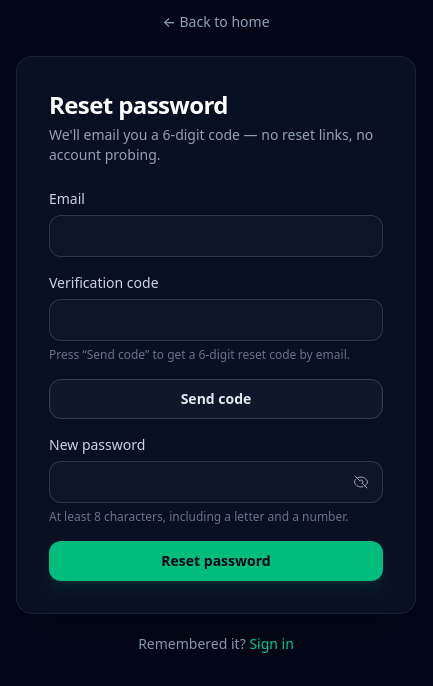
Scenario: ForgotPasswordPage › issues an OTP challenge with the dev code
Step 1. Type "ada@example.com" into the field labelled "Email" → (216, 236), box [49,215,383,257]
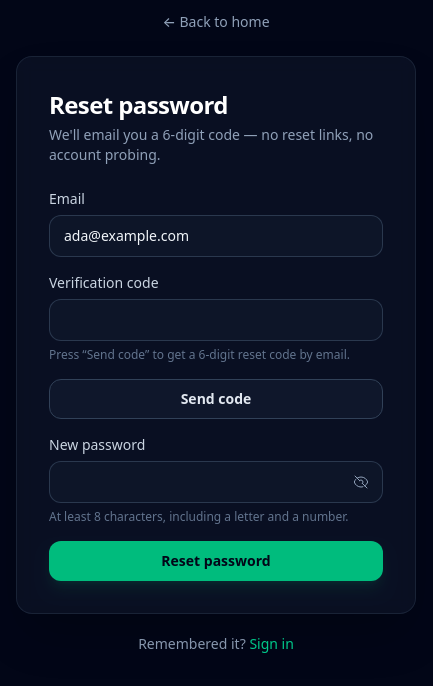
Step 2. Click the button "Send code" → (216, 399), box [49,379,383,419]
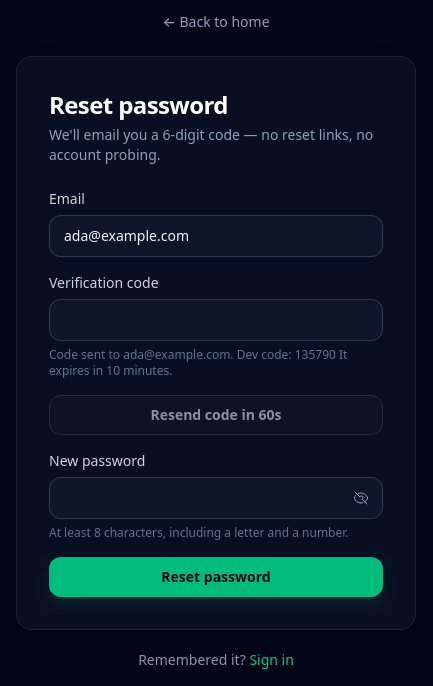
Now the text "Dev code: 135790" is shown, box [49,346,347,379]
Now the button "Resend code in 60s" is shown, box [49,395,383,435]
